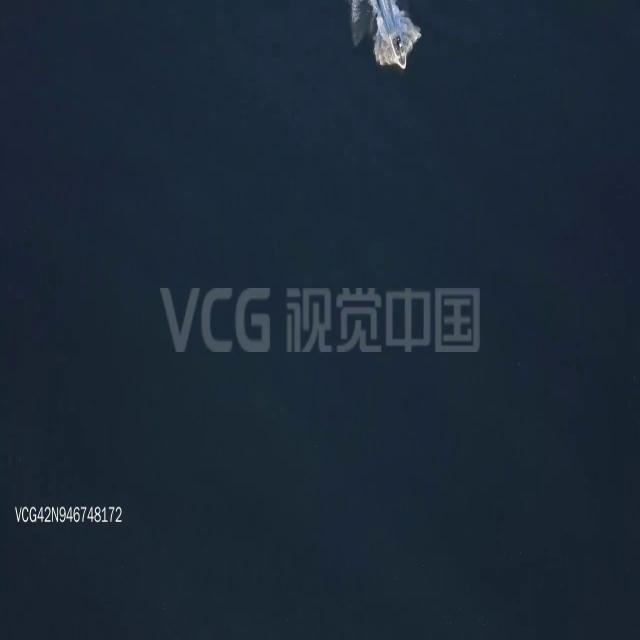houseboat: (388, 27, 408, 70)
